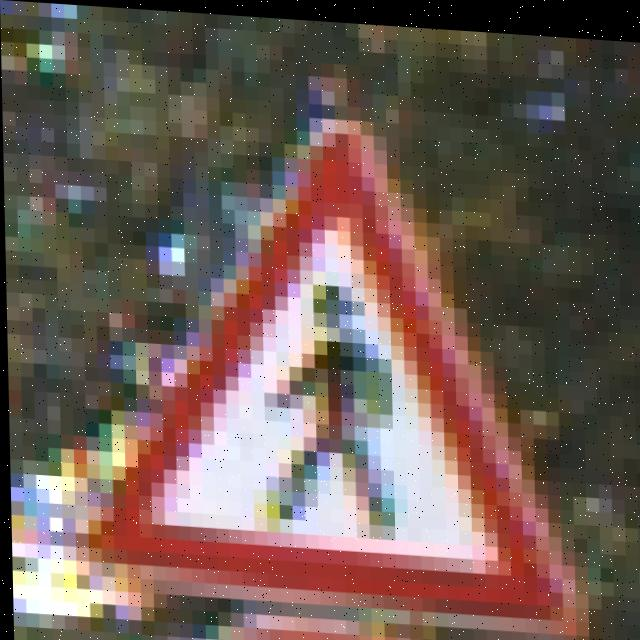crosswalk: (139, 136, 611, 640)
